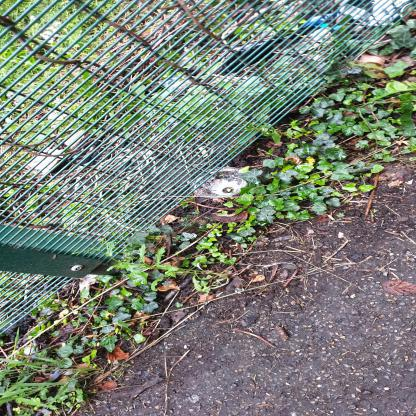plastik: (192, 168, 250, 200)
